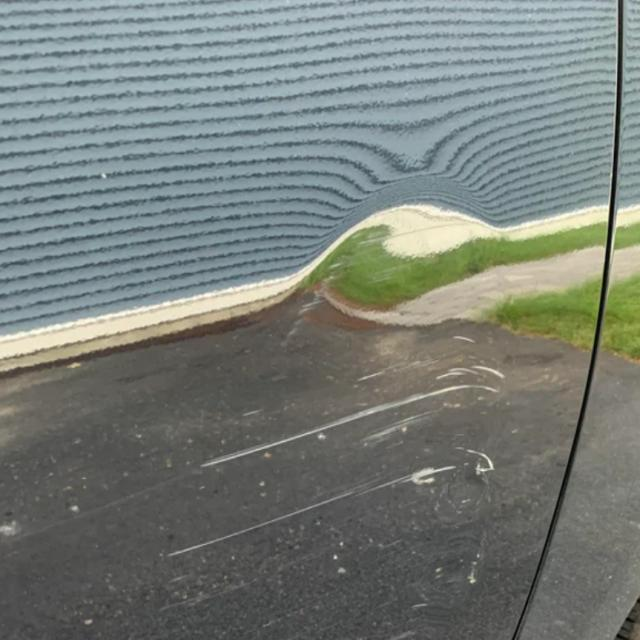dents: (273, 162, 574, 382)
